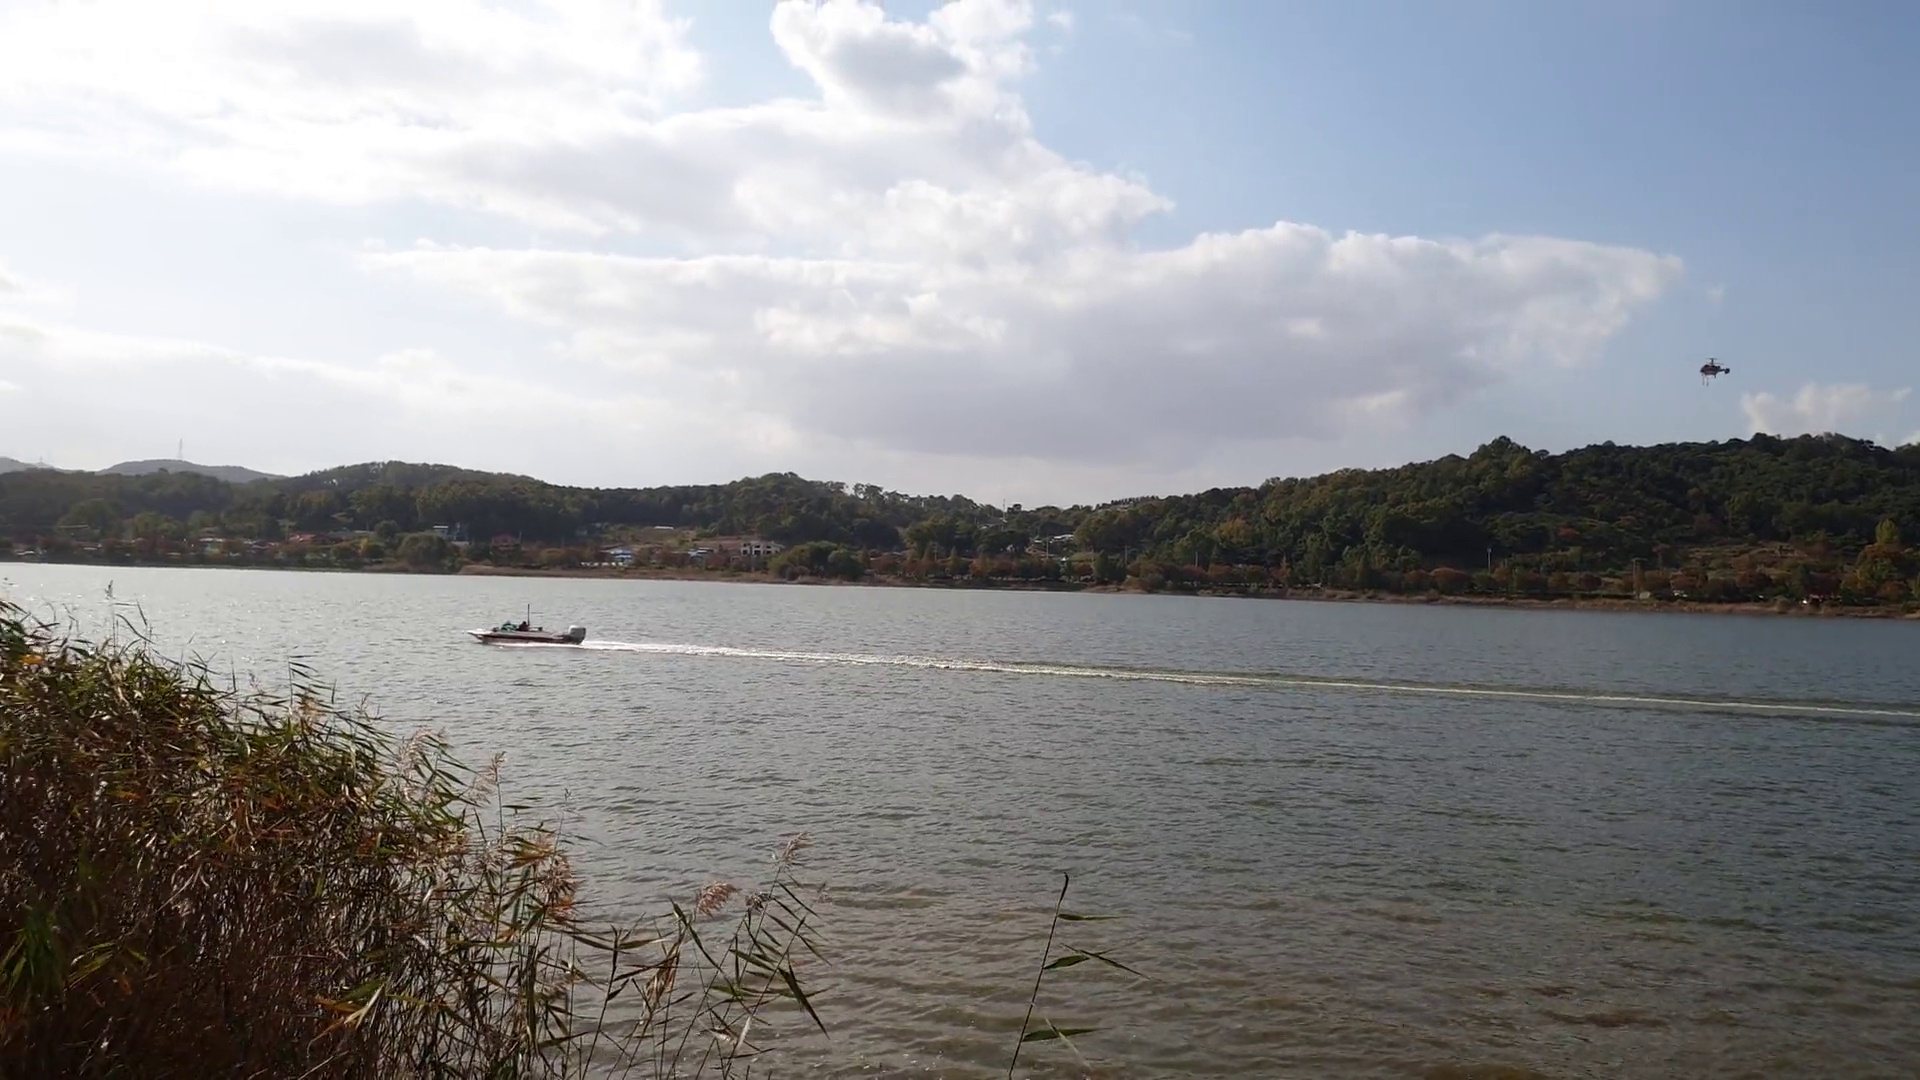heli: (1698, 357, 1730, 378)
